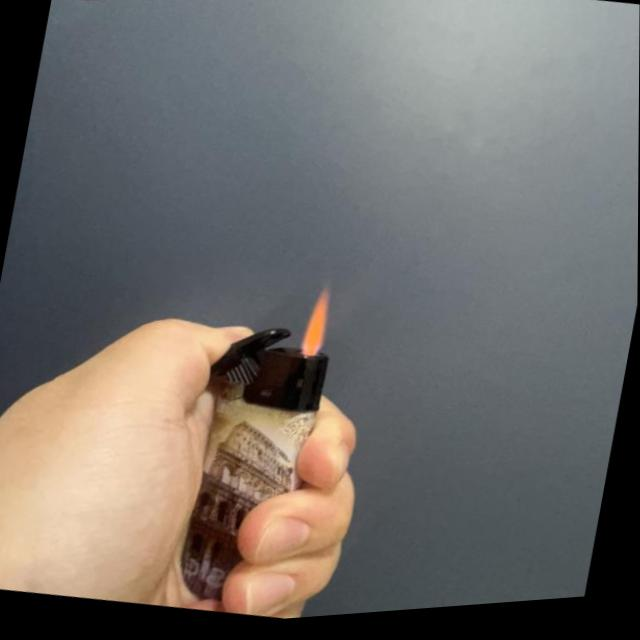Fire: (298, 286, 336, 364)
